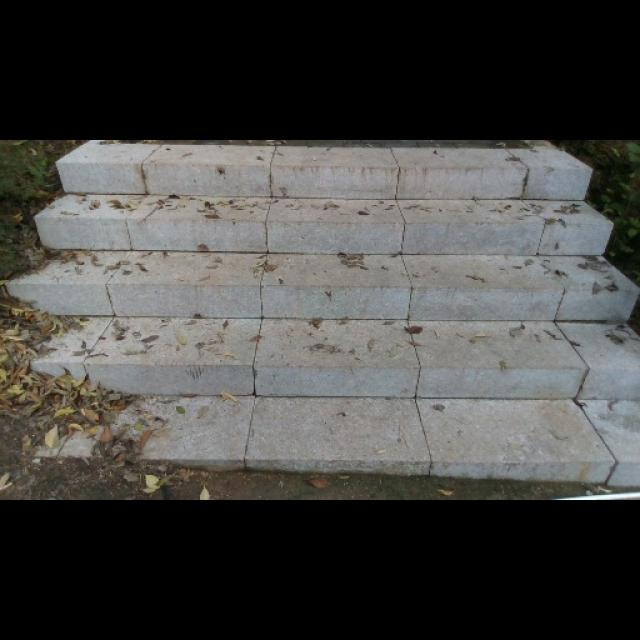Stairs: (4, 139, 638, 486)
